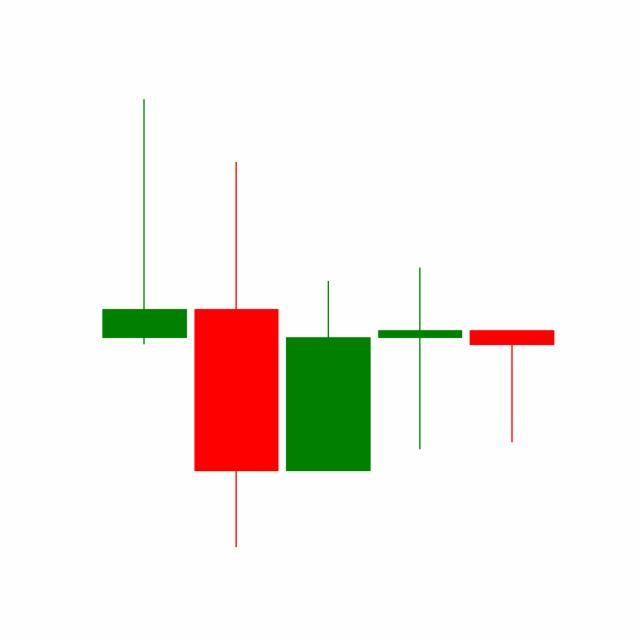Spinning Top: (374, 266, 468, 453)
